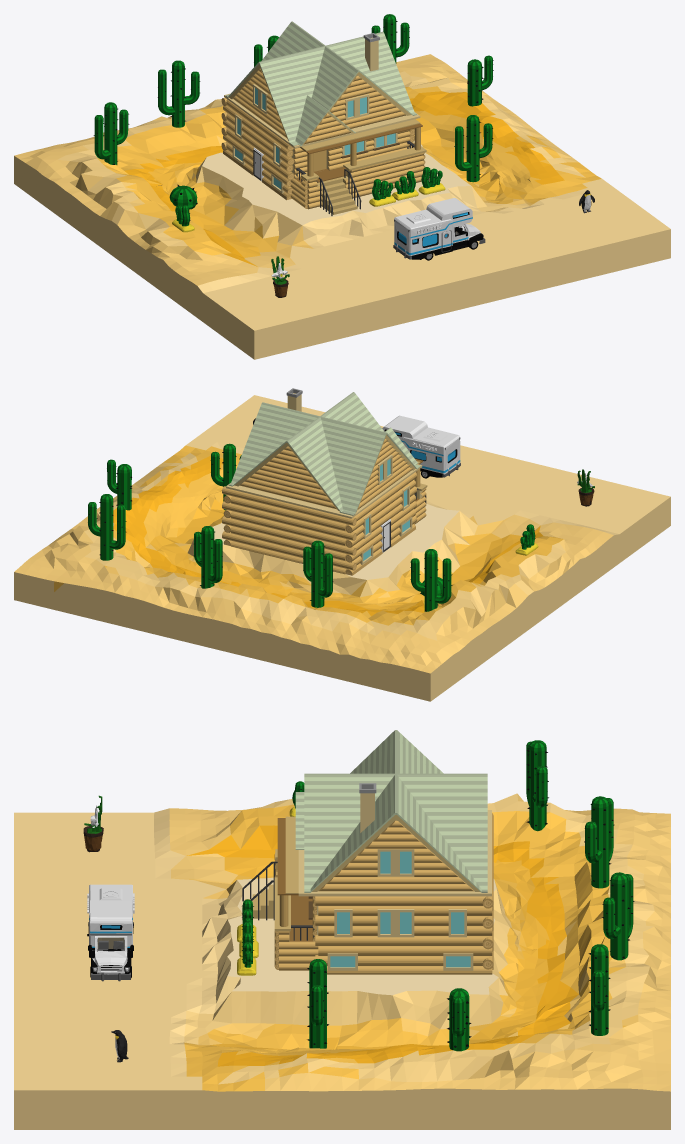
The picture shows the model from 3 angles, top to bottom: view 1: azimuth 30°, elevation 25°; view 2: azimuth 150°, elevation 25°; view 3: azimuth 270°, elevation 25°; orthographic projection. The views are drawn at different scales.
Parts seen in each view (by area): view 1: Cube.001, Cube.1516, VEHICLES_CAMPER, Cylinder.037, Cylinder.044, Cylinder.045, Cylinder.038, Cylinder.042, Cylinder.039, Cylinder.041, OBJRANDOM_MONJA BLANCA, Sphere.023 (+1 smaller); view 2: Cube.001, Cube.1516, VEHICLES_CAMPER, Cylinder.042, Cylinder.045, Cylinder.044, Cylinder.043, Cylinder.038, Cylinder.037; view 3: Cube.001, Cube.1516, VEHICLES_CAMPER, Cylinder.043, Cylinder.044, Cylinder.045, Cylinder.042, Cylinder.037, Cylinder.038, OBJRANDOM_MONJA BLANCA, Cylinder.041.
Boxes of the visible parts, x1,y1,x2,y2 form: Cube.001: (14,54,670,359); Cube.1516: (221,21,426,215); VEHICLES_CAMPER: (393,198,485,260); Cylinder.037: (454,115,493,182); Cylinder.044: (157,60,200,127); Cylinder.045: (93,102,129,164); Cylinder.038: (467,55,493,106); Cylinder.042: (371,14,409,63); Cylinder.039: (369,179,395,206); Cylinder.041: (418,167,445,194); OBJRANDOM_MONJA BLANCA: (271,256,289,297); Sphere.023: (169,184,197,209); Cube.001: (14,395,670,701); Cube.1516: (222,388,427,575); VEHICLES_CAMPER: (382,415,460,478); Cylinder.042: (88,494,126,560); Cylinder.045: (410,549,452,611); Cylinder.044: (303,540,333,607); Cylinder.043: (193,526,222,588); Cylinder.038: (107,459,131,510); Cylinder.037: (210,443,241,510); Cube.001: (14,793,670,1129); Cube.1516: (242,730,493,974); VEHICLES_CAMPER: (87,884,134,981); Cylinder.043: (602,872,634,960); Cylinder.044: (584,796,614,888); Cylinder.045: (526,740,548,831); Cylinder.042: (588,944,610,1035); Cylinder.037: (307,959,328,1048); Cylinder.038: (447,988,471,1051); OBJRANDOM_MONJA BLANCA: (83,795,103,852); Cylinder.041: (237,932,256,975).
Size of the model in its own units: 4002 by 1600 by 4001.
Materials: 36 (3 with a texture image).
